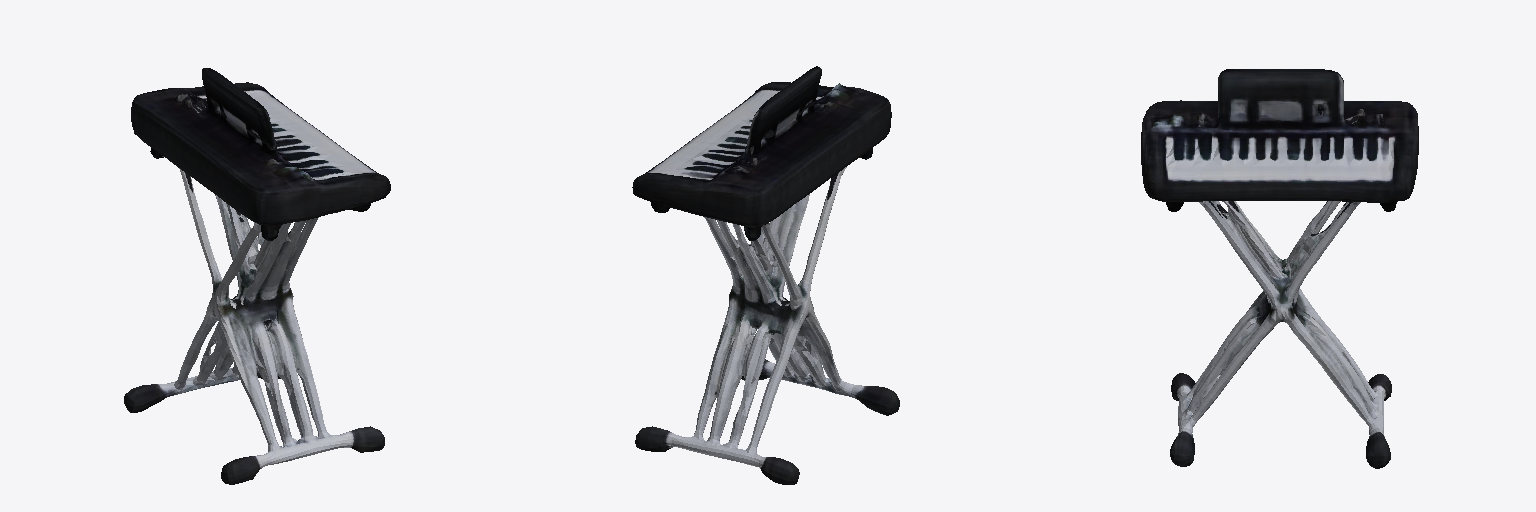
The picture shows the model from 3 angles: view 1: azimuth 30°, elevation 25°; view 2: azimuth 150°, elevation 25°; view 3: azimuth 270°, elevation 25°; orthographic projection.
Visible parts, largest first — view 1: mesh; view 2: mesh; view 3: mesh.
Part boxes in pixels (x1,y1,x2,y2): mesh: (124, 68, 390, 484); mesh: (632, 66, 899, 484); mesh: (1141, 69, 1418, 468).
Size of the model in its own units: 0.4826 by 0.9988 by 0.7162.
1 materials, 1 textured.